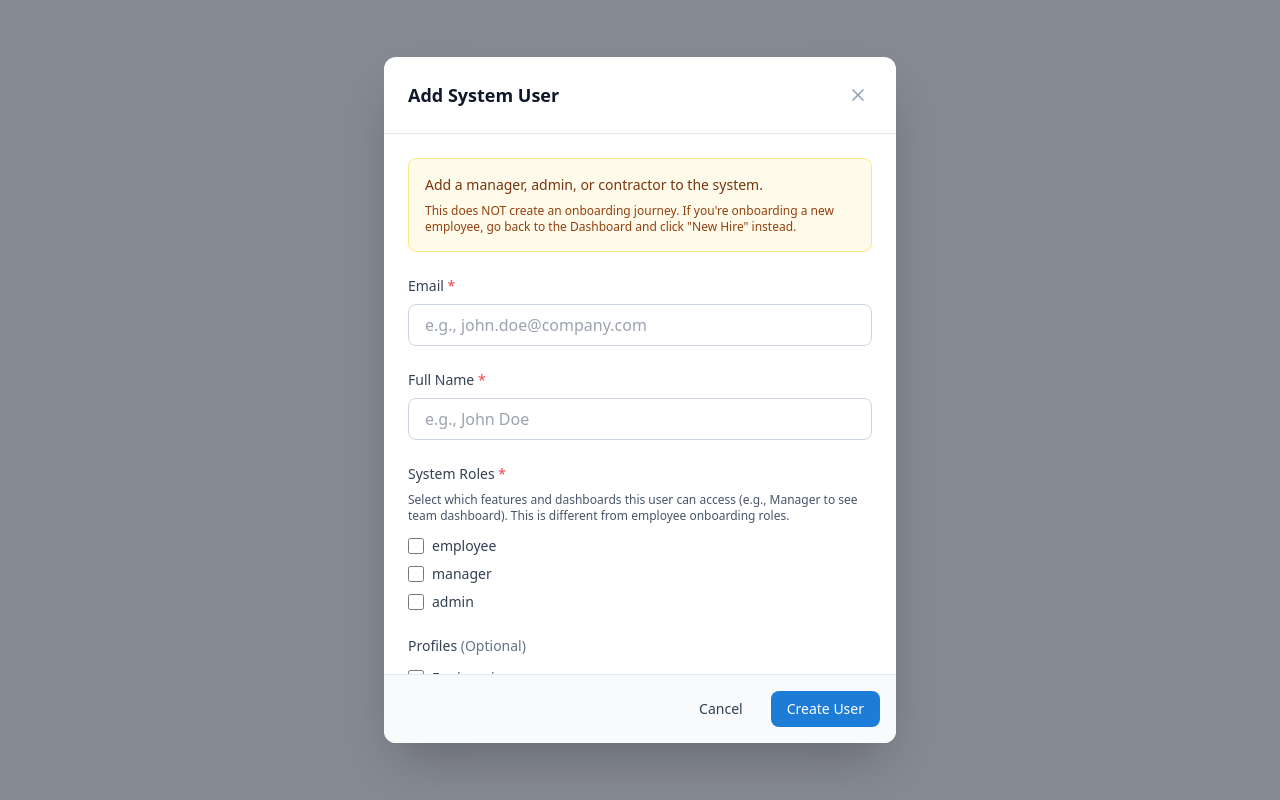
Test case: UserModal › UserModal - create mode › should validate name field
Type "A" into the field named "User name" at (640, 419), box [408,398,872,440]
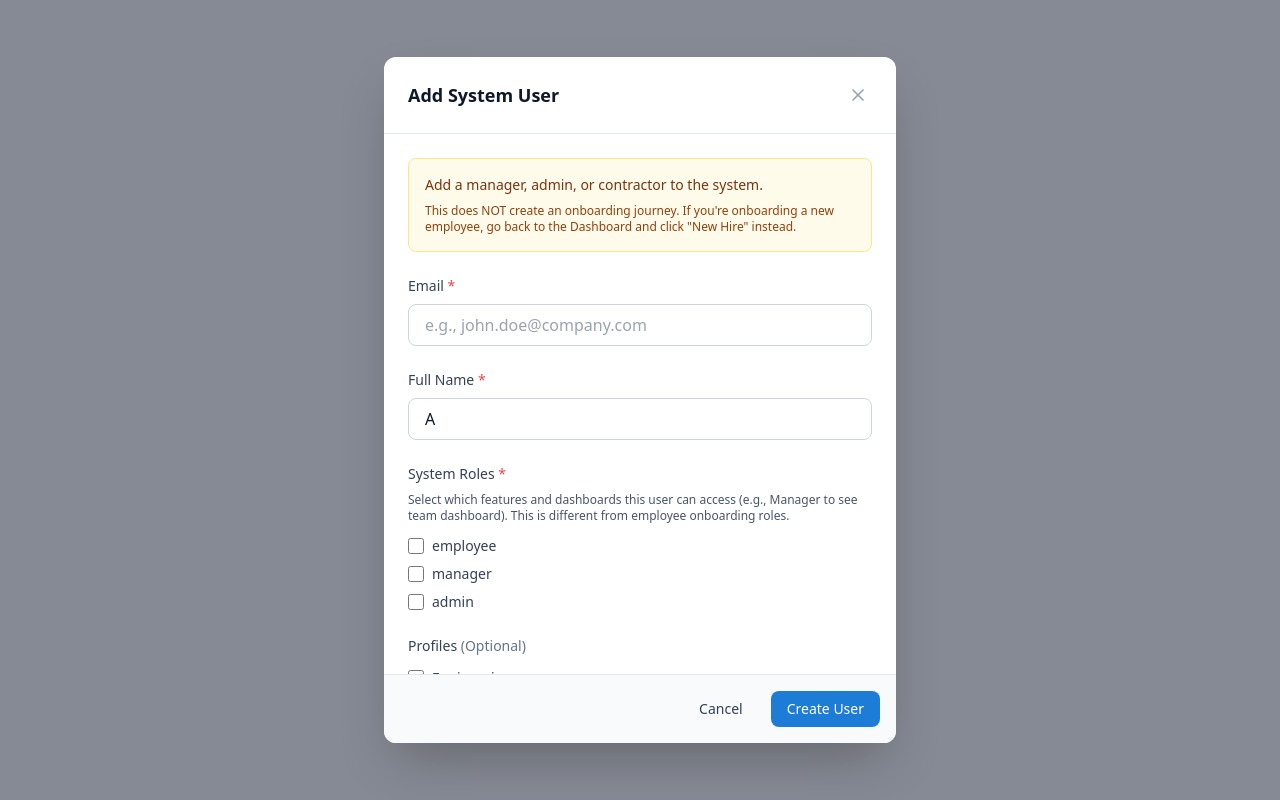
Click the button labelled "Create User" at (825, 709), box [771,691,880,727]
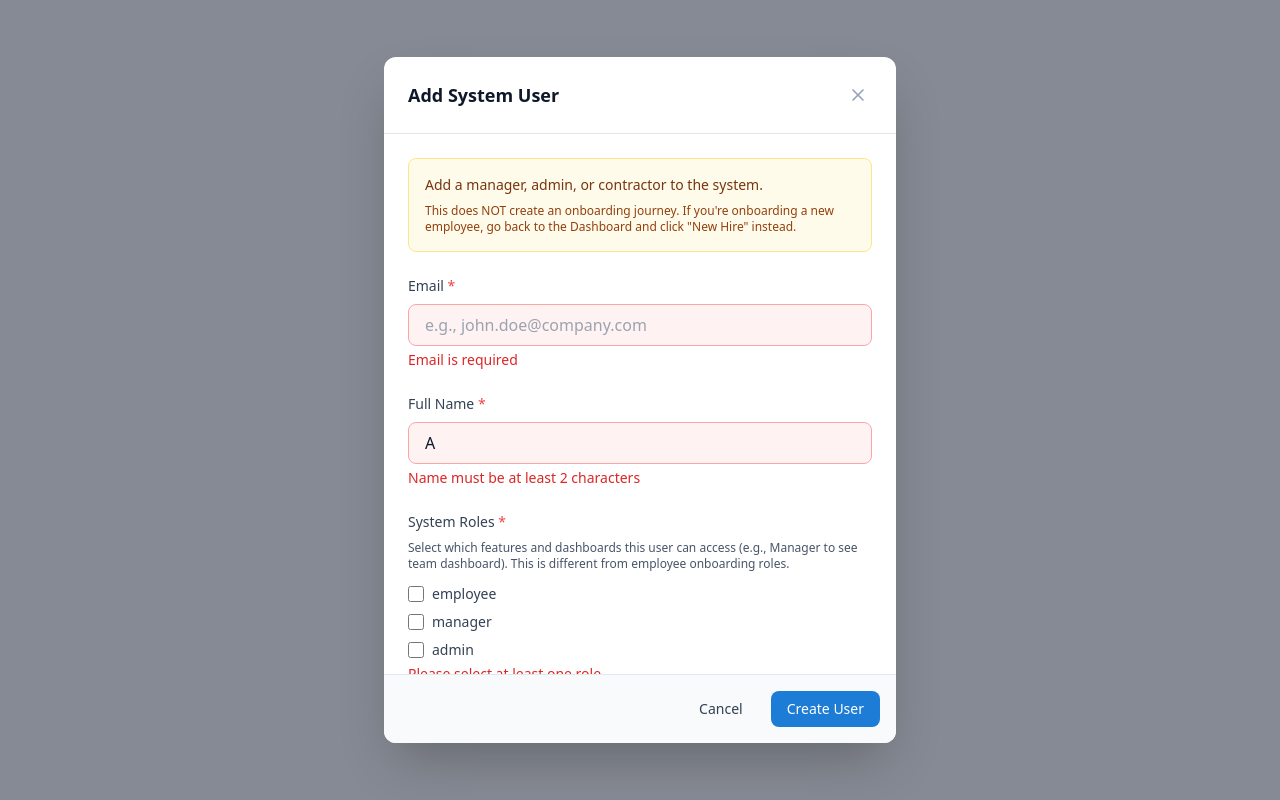
Check: the text "Name must be at least 2 characters" is shown, box [408,468,640,487]
